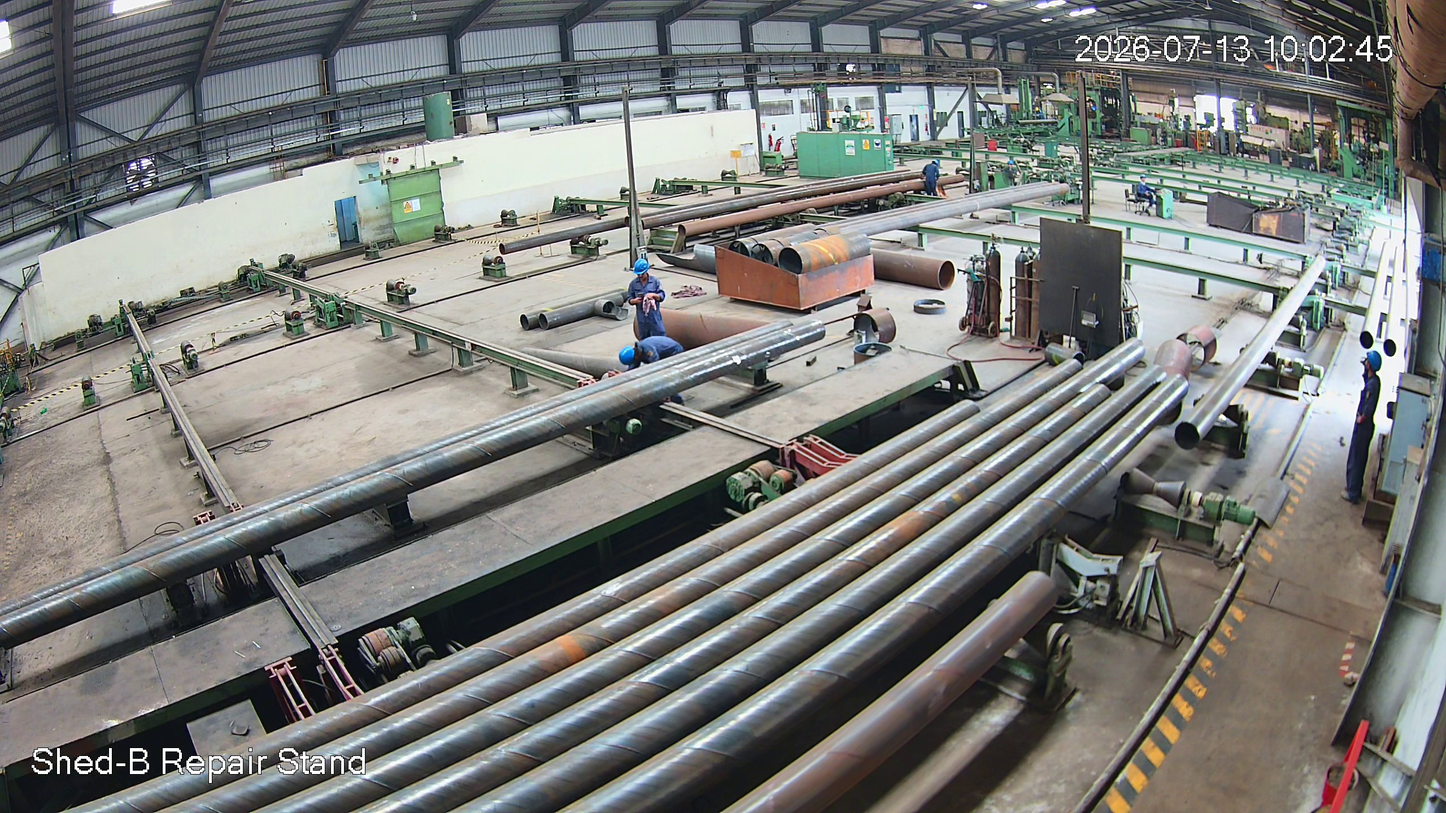Helmet: (1359, 350, 1387, 381), (614, 344, 640, 368), (630, 256, 653, 283)
Person: (1340, 352, 1389, 508), (617, 337, 687, 377), (628, 259, 665, 333)
